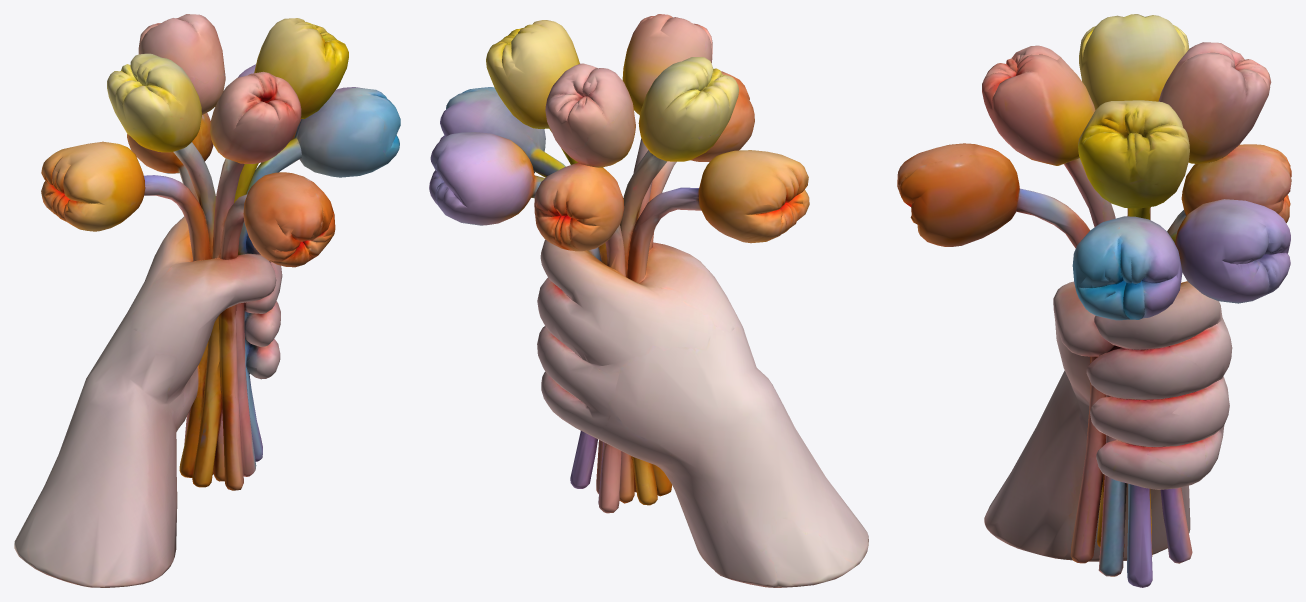
File: tulip.glb
The picture shows the model from 3 angles, left to right: view 1: azimuth 30°, elevation 25°; view 2: azimuth 150°, elevation 25°; view 3: azimuth 270°, elevation 25°; orthographic projection. The views are drawn at different scales.
Visible parts, largest first — view 1: model; view 2: model; view 3: model.
Boxes of the visible parts, x1,y1,x2,y2 form: model: (14, 14, 400, 587); model: (429, 14, 868, 587); model: (897, 14, 1291, 587).
Size of the model in its own units: 1.59 by 1.9 by 1.22.
1 material, 1 textured.
